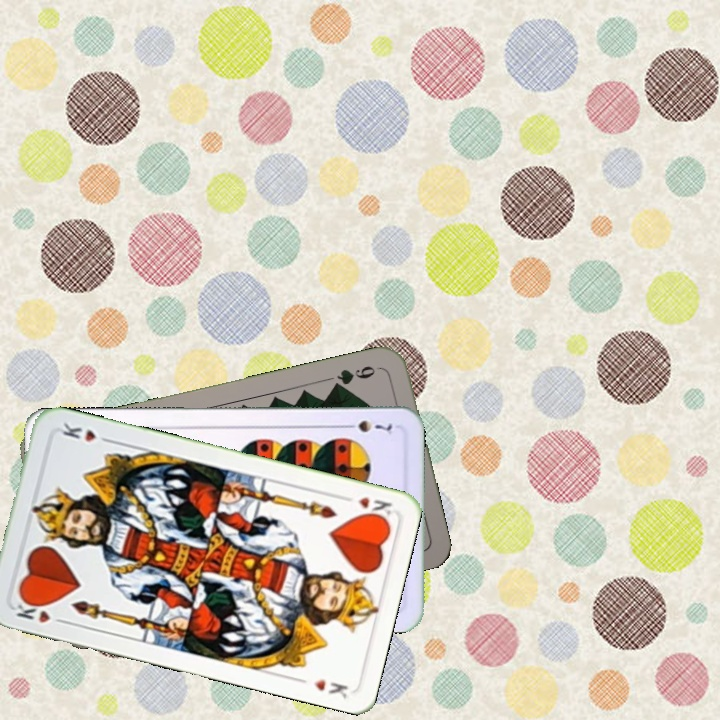G9: (327, 362, 378, 392)
HK: (337, 491, 395, 522), (13, 595, 69, 627)
S7: (339, 416, 395, 437)
